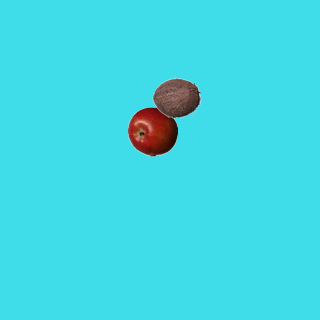Apple Braeburn: (127, 106, 177, 156)
Cocos: (151, 72, 201, 122)
